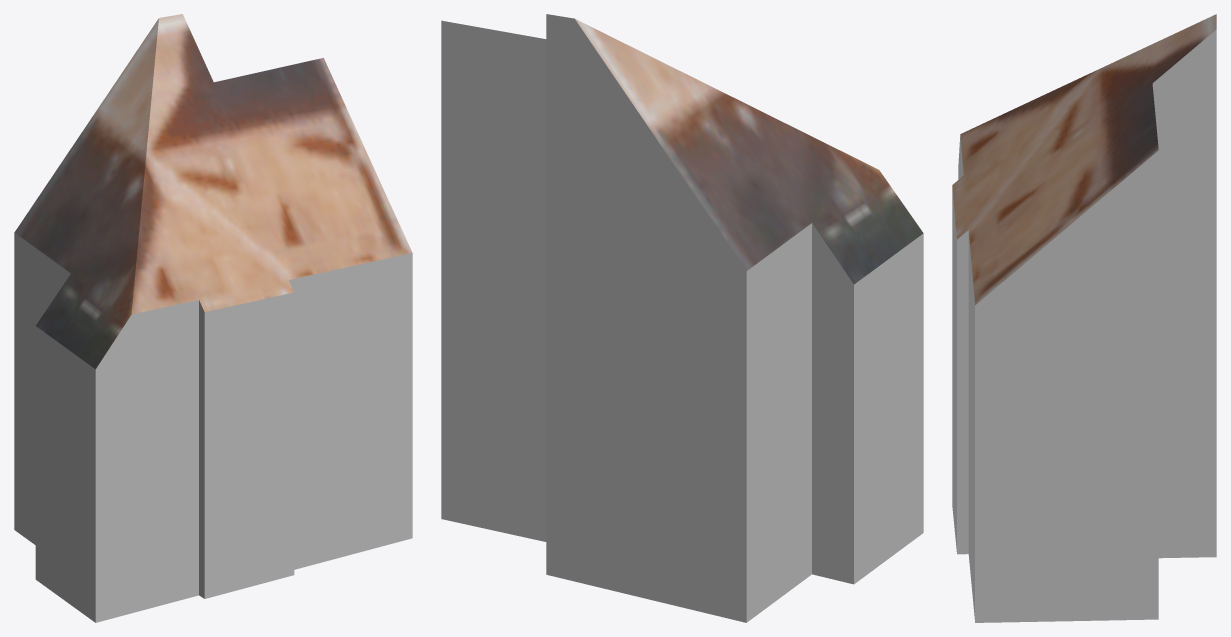
The model's file is DEBW_0010007TxgD.gltf.
3 renders of one model, left to right at view 1: azimuth 30°, elevation 25°; view 2: azimuth 150°, elevation 25°; view 3: azimuth 270°, elevation 25°, orthographic. The views are drawn at different scales.
Parts seen in each view (by area): view 1: Z_UP; view 2: Z_UP; view 3: Z_UP.
Boxes of the visible parts, x1,y1,x2,y2 form: Z_UP: (14,14,412,622); Z_UP: (441,14,923,622); Z_UP: (952,14,1216,622).
Size of the model in its own units: 17.99 by 25.2 by 11.4.
2 materials, 1 textured.
